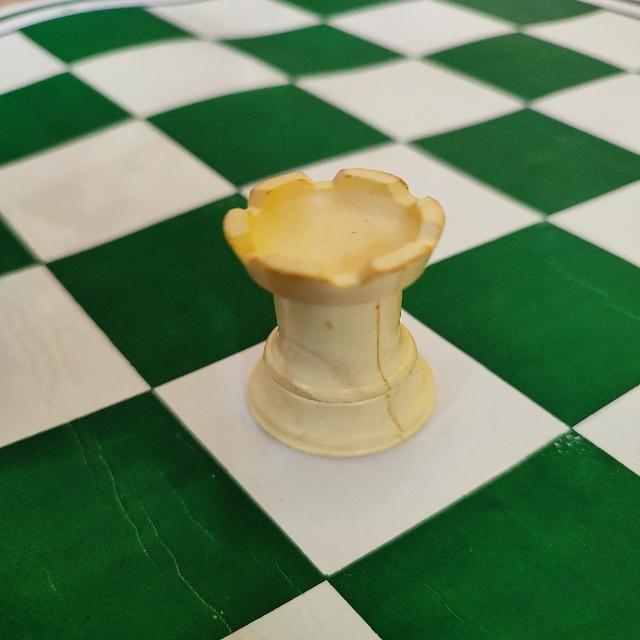Rook: (217, 165, 447, 462)
